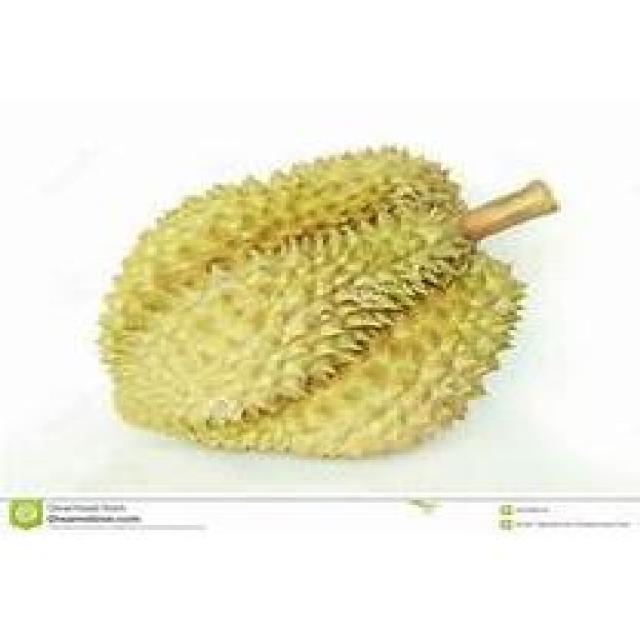Fruit: (169, 160, 514, 482)
